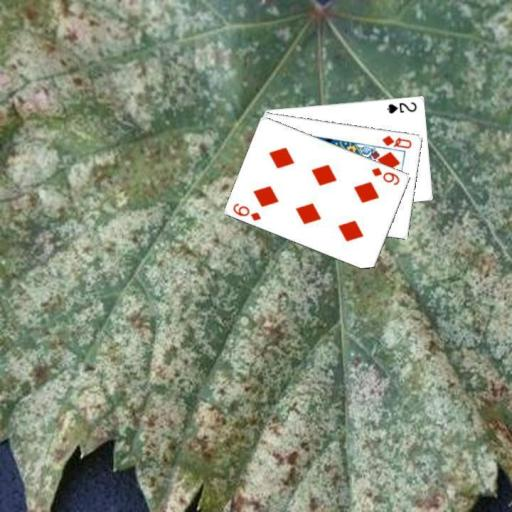card-corner: (368, 164, 402, 186), (230, 200, 263, 222), (379, 132, 413, 150), (384, 98, 418, 115)
